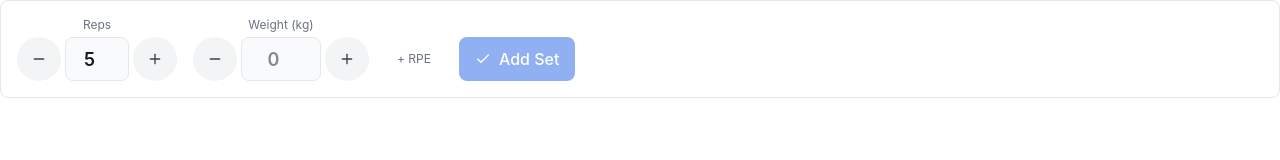
Scenario: SetInput › should decrement reps when - button is clicked
The image size is (1280, 160).
What coordinates should you click on to do the following:
click the button named "Decrease reps"
I would click on:
 (39, 59)
Its box is [17,37,61,81].
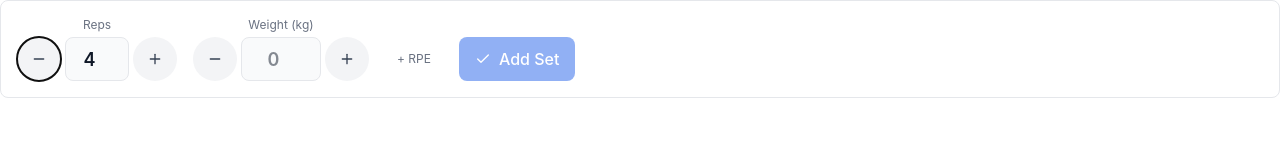
Expected: the number field named "Reps" holds "4", [65,37,129,81]
